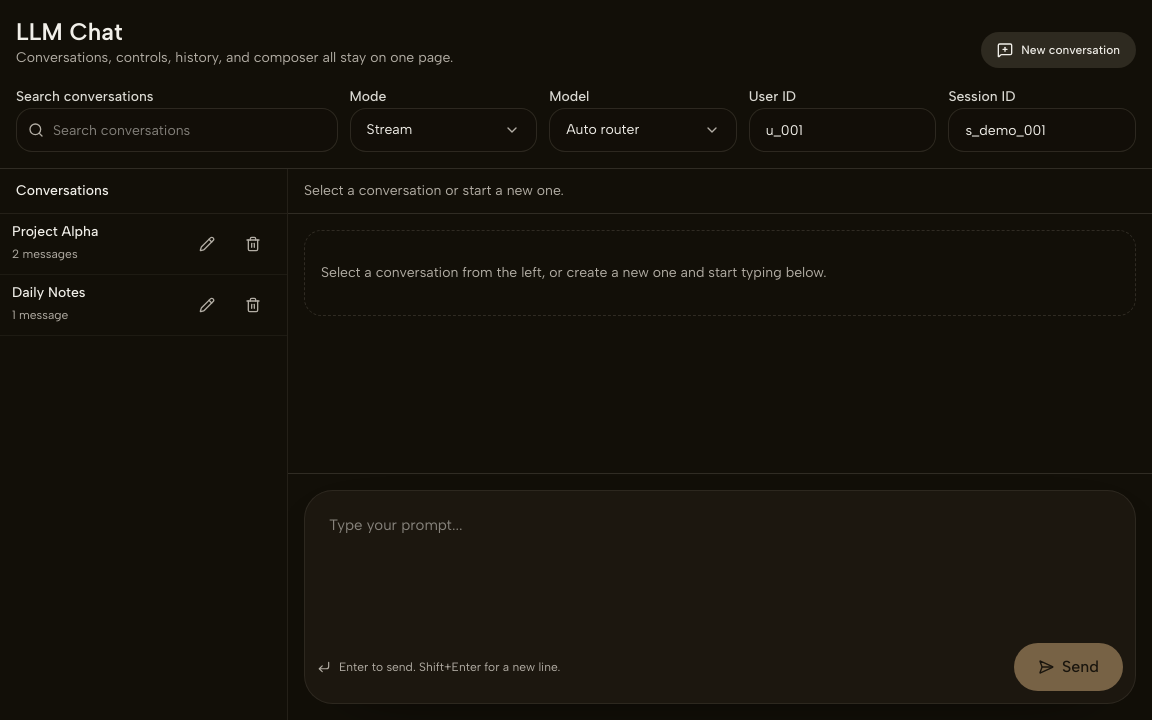
Test: App conversation workspace › revalidates with the server when cached conversation metadata is older than the sidebar conversation
Expected: the text "Project Alpha" is shown, [12, 223, 98, 240]
Click the button with aria-label "Open Project Alpha" at {"x": 94, "y": 242}, box [12, 222, 177, 262]
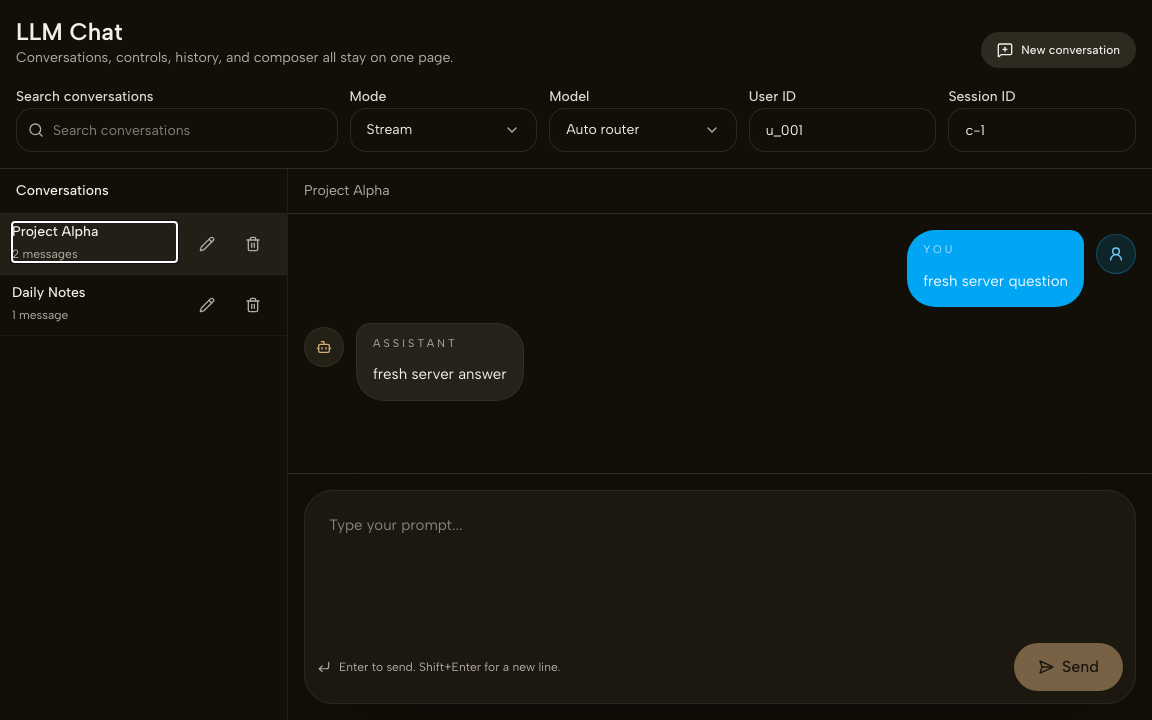
Expected: the text "fresh server answer" is shown, [373, 360, 507, 388]
